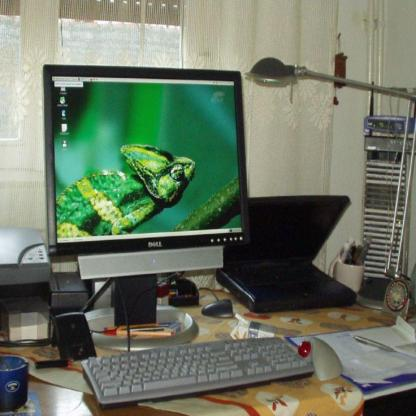board: (216, 200, 356, 313)
